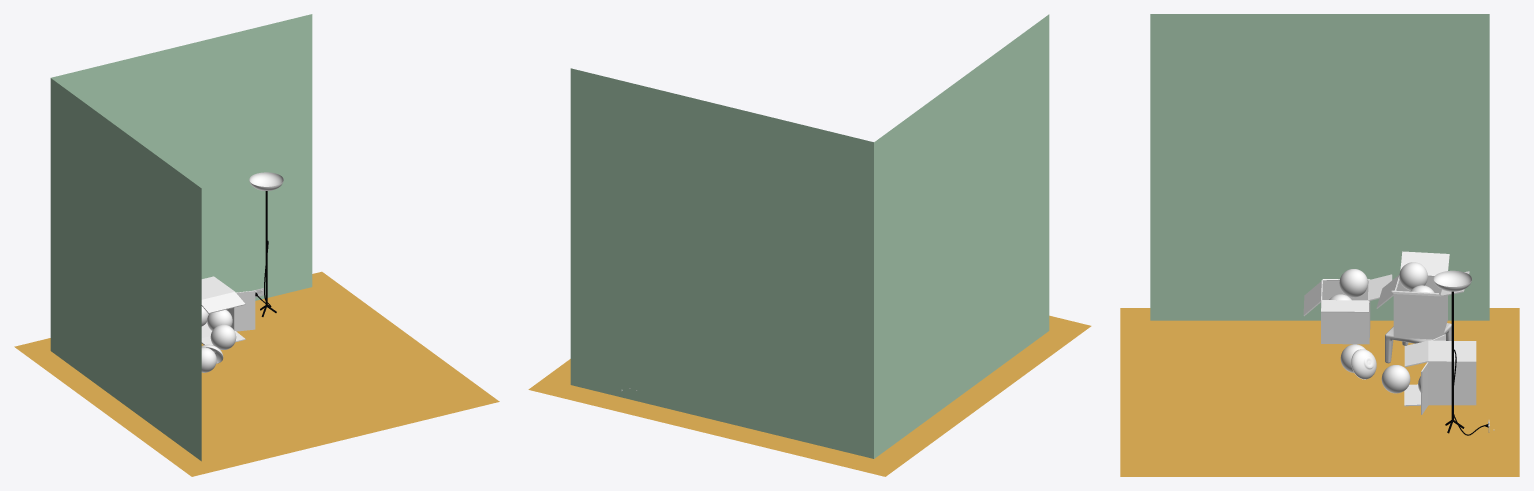
The model's file is another-room -2.glb.
3 renders of one model, left to right at view 1: azimuth 30°, elevation 25°; view 2: azimuth 150°, elevation 25°; view 3: azimuth 270°, elevation 25°, orthographic. The views are drawn at different scales.
Visible parts, largest first — view 1: Cube, Cube.001, Cube.009, Sphere.009, Sphere.001; view 2: Cube, Cube.001; view 3: Cube, Cube.001, Cube.009, Cube.006, Cube.008, Sphere.009, Sphere.001, Sphere.003, Sphere.005, Sphere.002, Cube.002, Cylinder.
Boxes of the visible parts, x1=… form: Cube: x1=50, y1=14, x2=312, y2=461; Cube.001: x1=14, y1=271, x2=499, y2=476; Cube.009: x1=201, y1=276, x2=255, y2=344; Sphere.009: x1=210, y1=324, x2=236, y2=349; Sphere.001: x1=249, y1=172, x2=283, y2=190; Cube: x1=570, y1=14, x2=1049, y2=458; Cube.001: x1=528, y1=315, x2=1091, y2=476; Cube: x1=1150, y1=14, x2=1489, y2=320; Cube.001: x1=1120, y1=308, x2=1519, y2=476; Cube.009: x1=1404, y1=334, x2=1476, y2=414; Cube.006: x1=1376, y1=251, x2=1469, y2=339; Cube.008: x1=1303, y1=274, x2=1392, y2=344; Sphere.009: x1=1381, y1=365, x2=1410, y2=393; Sphere.001: x1=1433, y1=270, x2=1471, y2=291; Sphere.003: x1=1339, y1=269, x2=1367, y2=297; Sphere.005: x1=1399, y1=262, x2=1427, y2=290; Sphere.002: x1=1351, y1=349, x2=1376, y2=379; Cube.002: x1=1385, y1=323, x2=1451, y2=363; Cylinder: x1=1445, y1=291, x2=1464, y2=433.
Bounding box in the file's own units: 20.7 × 17.59 × 20.7.
